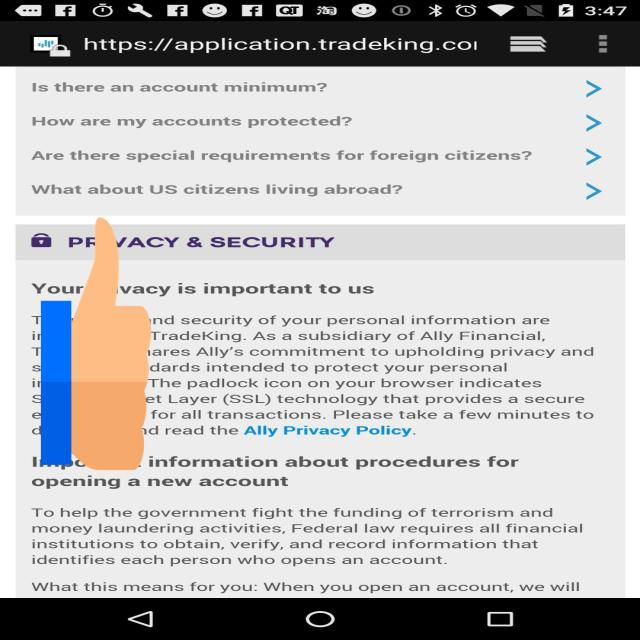privacy zuckering: (41, 211, 151, 476)
